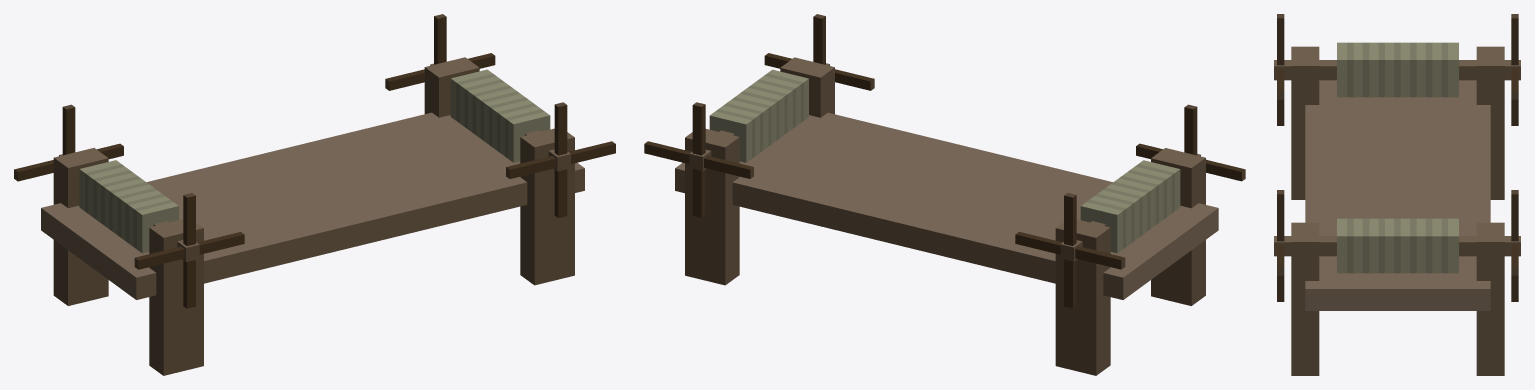
Rendered from SD_Prop_Rack_01.fbx.
3 renders of one model, left to right at view 1: azimuth 30°, elevation 25°; view 2: azimuth 150°, elevation 25°; view 3: azimuth 270°, elevation 25°, orthographic. The views are drawn at different scales.
Parts seen in each view (by area): view 1: SD_Prop_Rack_01, Rack_Handle_01, Rack_Handle_02; view 2: SD_Prop_Rack_01, Rack_Handle_01, Rack_Handle_02; view 3: SD_Prop_Rack_01, Rack_Handle_02, Rack_Handle_01.
Part boxes in pixels (bbox=[...]): SD_Prop_Rack_01: bbox=[41, 57, 584, 375]; Rack_Handle_01: bbox=[385, 14, 615, 217]; Rack_Handle_02: bbox=[14, 104, 244, 308]; SD_Prop_Rack_01: bbox=[675, 57, 1218, 375]; Rack_Handle_01: bbox=[644, 14, 874, 217]; Rack_Handle_02: bbox=[1015, 104, 1245, 308]; SD_Prop_Rack_01: bbox=[1291, 46, 1504, 375]; Rack_Handle_02: bbox=[1274, 14, 1520, 125]; Rack_Handle_01: bbox=[1274, 190, 1520, 301].
Size of the model in its own units: 6.17 by 2.22 by 2.84.
